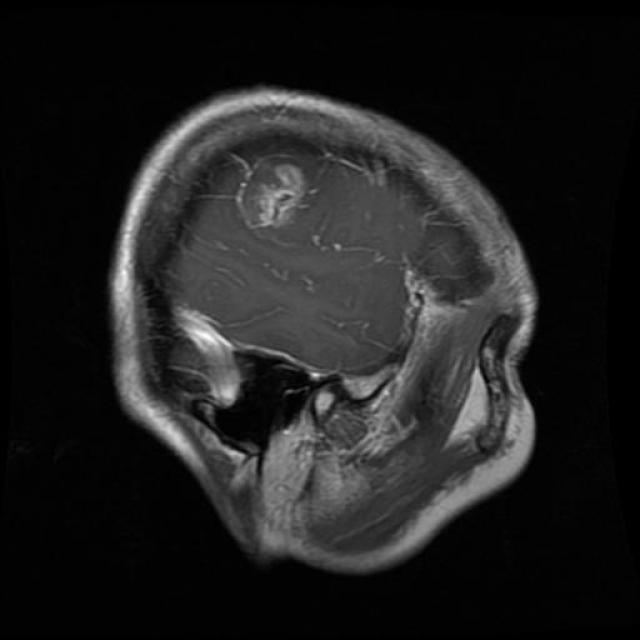glioma: (232, 150, 314, 230)
